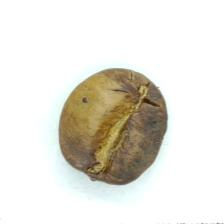NG: (97, 80, 167, 182)
